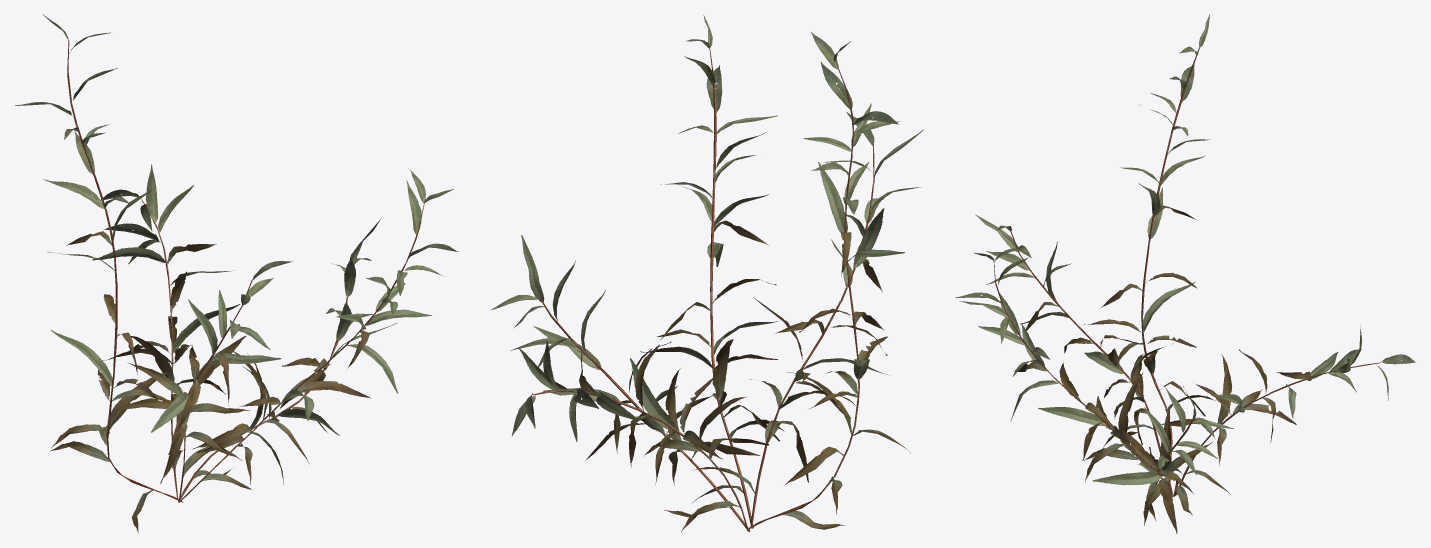
File: shrub_a_lo.gltf
3 views of the same model, side by side, from view 1: azimuth 30°, elevation 25°; view 2: azimuth 150°, elevation 25°; view 3: azimuth 270°, elevation 25° (orthographic). The views are drawn at different scales.
Visible parts, largest first — view 1: shrub_02_a; view 2: shrub_02_a; view 3: shrub_02_a.
Part boxes in pixels (x1=…): shrub_02_a: x1=15, y1=14, x2=458, y2=532; shrub_02_a: x1=490, y1=15, x2=923, y2=532; shrub_02_a: x1=955, y1=14, x2=1415, y2=533.
Size of the model in its own units: 1.31 by 1.69 by 1.63.
Materials: 1 (1 with a texture image).
